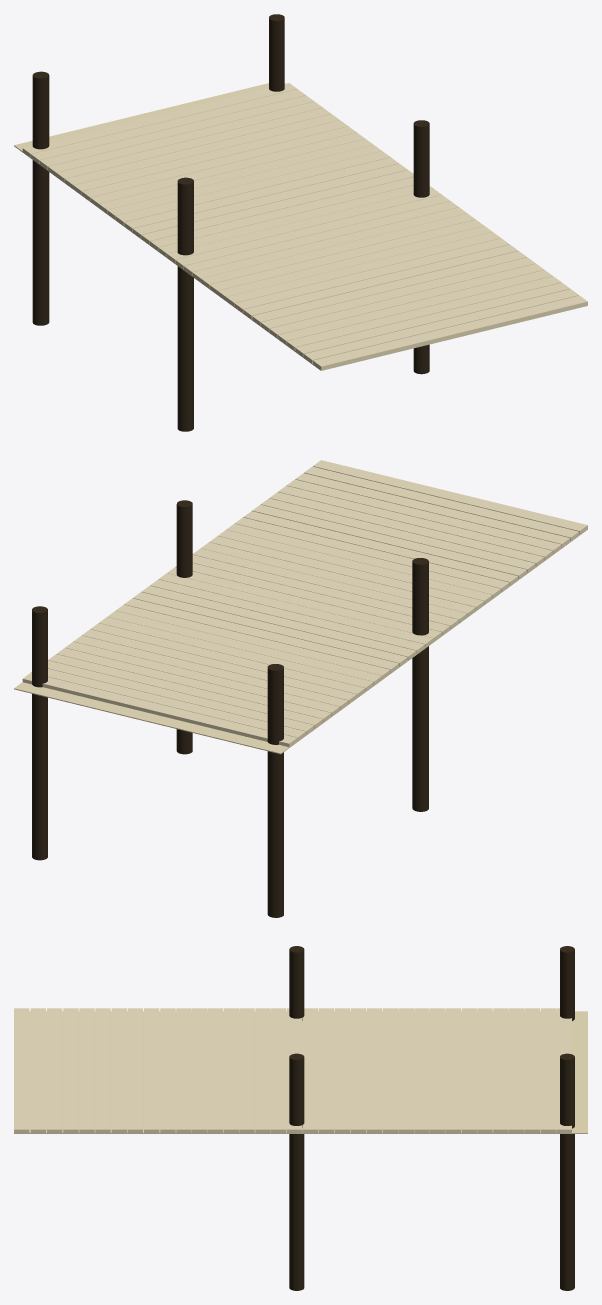
The model's file is Escenario_3.fbx.
3 views of the same model, one above another, from view 1: azimuth 30°, elevation 25°; view 2: azimuth 150°, elevation 25°; view 3: azimuth 270°, elevation 25° (orthographic). The views are drawn at different scales.
Visible parts, largest first — view 1: Poste_6.001, Poste_3.001, Tablon_muelle_1.292, Tablon_muelle_1.055, Tablon_muelle_1.056, Tablon_muelle_1.062, Tablon_muelle_1.057, Tablon_muelle_1.063, Tablon_muelle_1.061, Tablon_muelle_1.060, Tablon_muelle_1.059, Tablon_muelle_1.058 (+28 smaller); view 2: Poste_6.001, Poste_3.001, Poste_5.005, Cube.002, Tablon_muelle_1.291, Tablon_muelle_1.292, Tablon_muelle_1.055, Tablon_muelle_1.061, Tablon_muelle_1.056, Tablon_muelle_1.060, Tablon_muelle_1.277, Tablon_muelle_1.278 (+28 smaller); view 3: Cube.002, Poste_4.001, Poste_5.005, Tablon_muelle_1.279, Tablon_muelle_1.055, Tablon_muelle_1.056, Tablon_muelle_1.057, Tablon_muelle_1.058, Tablon_muelle_1.059, Tablon_muelle_1.060, Tablon_muelle_1.061, Tablon_muelle_1.062 (+28 smaller).
Boxes of the visible parts, bbox=[...] form: Poste_6.001: bbox=[32, 71, 49, 325]; Poste_3.001: bbox=[177, 177, 193, 431]; Tablon_muelle_1.292: bbox=[313, 295, 587, 369]; Tablon_muelle_1.055: bbox=[304, 289, 578, 363]; Tablon_muelle_1.056: bbox=[295, 282, 570, 356]; Tablon_muelle_1.062: bbox=[243, 244, 518, 318]; Tablon_muelle_1.057: bbox=[286, 276, 561, 350]; Tablon_muelle_1.063: bbox=[234, 238, 509, 312]; Tablon_muelle_1.061: bbox=[252, 251, 526, 325]; Tablon_muelle_1.060: bbox=[260, 257, 535, 331]; Tablon_muelle_1.059: bbox=[269, 263, 544, 337]; Tablon_muelle_1.058: bbox=[278, 270, 552, 344]; Poste_6.001: bbox=[267, 664, 283, 917]; Poste_3.001: bbox=[412, 558, 428, 811]; Poste_5.005: bbox=[32, 606, 47, 860]; Cube.002: bbox=[14, 529, 587, 754]; Tablon_muelle_1.291: bbox=[22, 673, 297, 746]; Tablon_muelle_1.292: bbox=[313, 460, 587, 534]; Tablon_muelle_1.055: bbox=[304, 466, 578, 540]; Tablon_muelle_1.061: bbox=[252, 504, 526, 578]; Tablon_muelle_1.056: bbox=[295, 473, 570, 547]; Tablon_muelle_1.060: bbox=[261, 498, 535, 572]; Tablon_muelle_1.277: bbox=[141, 585, 416, 659]; Tablon_muelle_1.278: bbox=[133, 592, 407, 666]; Cube.002: bbox=[14, 1011, 587, 1133]; Poste_4.001: bbox=[289, 1053, 304, 1290]; Poste_5.005: bbox=[560, 1053, 574, 1290]; Tablon_muelle_1.279: bbox=[366, 1008, 382, 1132]; Tablon_muelle_1.055: bbox=[30, 1008, 45, 1132]; Tablon_muelle_1.056: bbox=[47, 1008, 62, 1132]; Tablon_muelle_1.057: bbox=[63, 1008, 78, 1132]; Tablon_muelle_1.058: bbox=[79, 1008, 94, 1132]; Tablon_muelle_1.059: bbox=[95, 1008, 110, 1132]; Tablon_muelle_1.060: bbox=[111, 1008, 126, 1132]; Tablon_muelle_1.061: bbox=[127, 1008, 142, 1132]; Tablon_muelle_1.062: bbox=[144, 1008, 159, 1132].
Bounding box in the file's own units: 1131 × 1002 × 2256.
